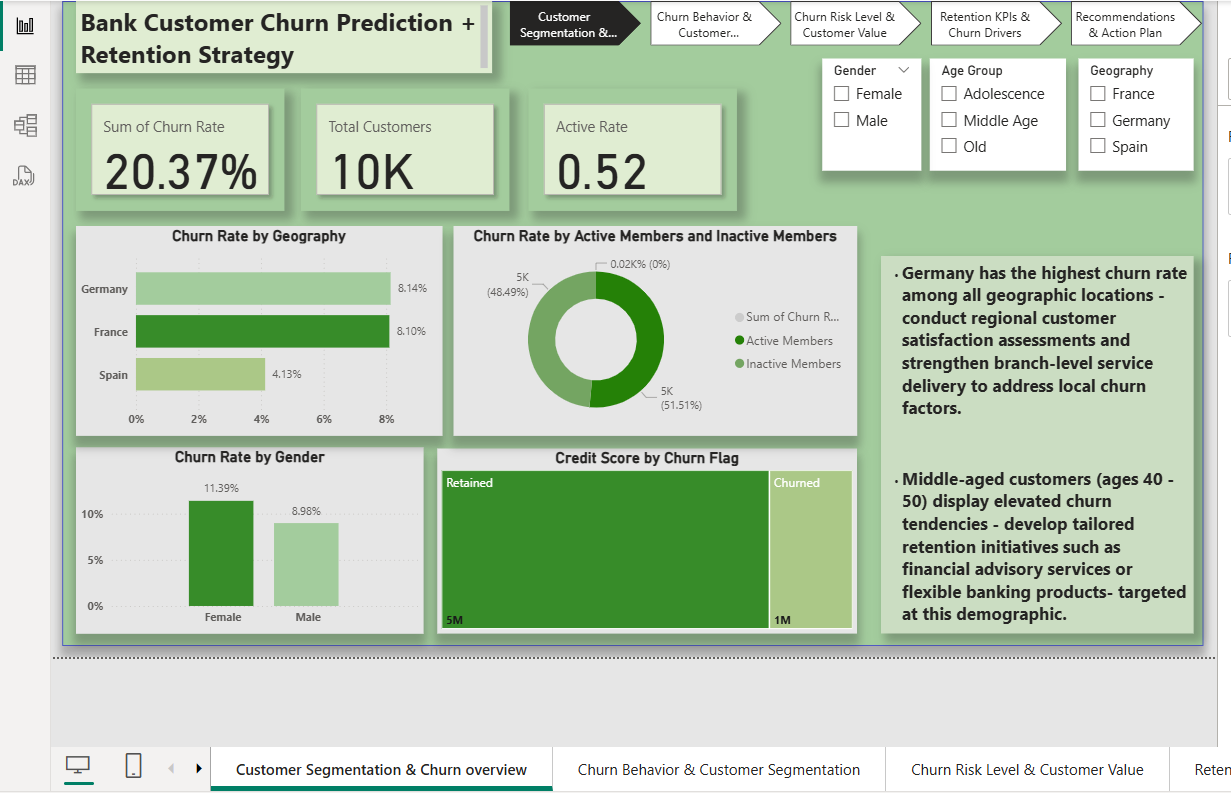

This screenshot's page, from the dashboard's own definition file:
{"tool":"powerbi","page":{"name":"Customer Segmentation & Churn overview","canvas":[1280,720],"ordinal":0},"visuals":[{"type":"shape","box":[12.3,0,1252.8,708.1],"z":0},{"type":"textbox","box":[27.4,0,456.9,79.6],"z":1000},{"type":"pageNavigator","box":[503.6,0,761.6,49.4],"z":2000},{"type":"cardVisual","fields":{"Data":["Sum(Cleaned Dataset.Churn Rate)"]},"box":[27.4,96.1,229.2,134.5],"z":3000},{"type":"cardVisual","fields":{"Data":["Cleaned Dataset.Total Customers"]},"box":[274.4,96.1,229.2,134.5],"z":4000},{"type":"cardVisual","fields":{"Data":["Cleaned Dataset.Active Rate"]},"box":[524.2,96.1,229.2,134.5],"z":5000},{"type":"columnChart","title":"Churn Rate by Gender","fields":{"Category":["Cleaned Dataset.Gender"],"Y":["Sum(Cleaned Dataset.Churn Rate)"]},"box":[27.4,489.9,381.5,204.5],"z":6000},{"type":"barChart","title":"Churn Rate by Geography","fields":{"Y":["Sum(Cleaned Dataset.Churn Rate)"],"Category":["Cleaned Dataset.Geography"]},"box":[27.4,247,402.1,230.5],"z":7000},{"type":"treemap","title":"Credit Score by Churn Flag","fields":{"Values":["Sum(Cleaned Dataset.Credit Score)"],"Group":["Cleaned Dataset.Churn Flag"]},"box":[424,491.3,461.1,203.1],"z":8000},{"type":"slicer","fields":{"Values":["Cleaned Dataset.Age Group"]},"box":[964.7,63.1,149.6,123.5],"z":9000},{"type":"slicer","fields":{"Values":["Cleaned Dataset.Geography"]},"box":[1128,63.1,126.2,123.5],"z":10000},{"type":"slicer","fields":{"Values":["Cleaned Dataset.Gender"]},"box":[846.7,63.1,108.4,123.5],"z":11000},{"type":"textbox","box":[911.2,279.9,343.1,414.4],"z":12000},{"type":"donutChart","title":"Churn Rate by Active Members and Inactive Members","fields":{"Y":["Sum(Cleaned Dataset.Churn Rate)","Cleaned Dataset.Active Members","Cleaned Dataset.Inactive Members"]},"box":[441.9,247,443.2,230.5],"z":13000}]}

Visuals, with their boxes on the page's 1280x720 design canvas (x1, y1, x2, y2). These are canvas units, not pixel positions in the 1231x793 screenshot, which may show the page scaled, cropped or inside an application window:
shape: rect(12, 0, 1265, 708)
textbox: rect(27, 0, 484, 80)
pageNavigator: rect(504, 0, 1265, 49)
cardVisual - Sum(Cleaned Dataset.Churn Rate): rect(27, 96, 257, 231)
cardVisual - Cleaned Dataset.Total Customers: rect(274, 96, 504, 231)
cardVisual - Cleaned Dataset.Active Rate: rect(524, 96, 753, 231)
"Churn Rate by Gender" columnChart: rect(27, 490, 409, 694)
"Churn Rate by Geography" barChart: rect(27, 247, 430, 478)
"Credit Score by Churn Flag" treemap: rect(424, 491, 885, 694)
slicer - Cleaned Dataset.Age Group: rect(965, 63, 1114, 187)
slicer - Cleaned Dataset.Geography: rect(1128, 63, 1254, 187)
slicer - Cleaned Dataset.Gender: rect(847, 63, 955, 187)
textbox: rect(911, 280, 1254, 694)
"Churn Rate by Active Members and Inactive Members" donutChart: rect(442, 247, 885, 478)
